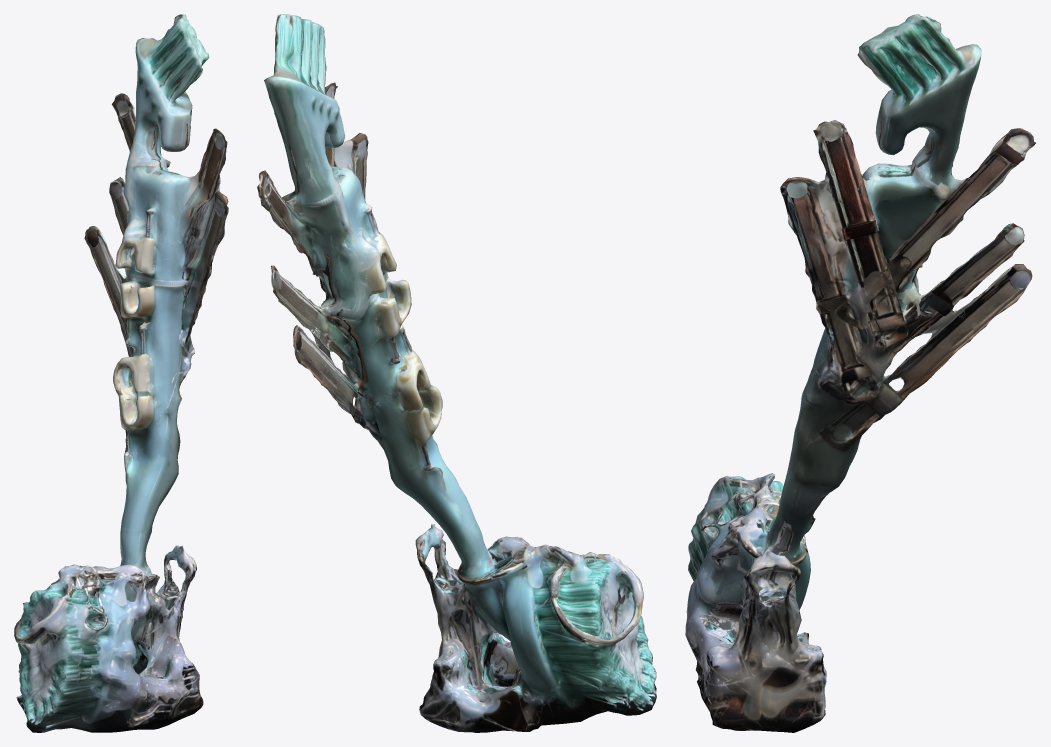
3 renders of one model, left to right at view 1: azimuth 30°, elevation 25°; view 2: azimuth 150°, elevation 25°; view 3: azimuth 270°, elevation 25°, orthographic. The views are drawn at different scales.
Visible parts, largest first — view 1: P1; view 2: P1; view 3: P1.
Boxes of the visible parts, x1,y1,x2,y2 form: P1: [14, 14, 228, 732]; P1: [257, 14, 656, 732]; P1: [685, 14, 1035, 732].
Bounding box in the file's own units: 0.4399 × 1.09 × 0.4512.
Materials: 1 (1 with a texture image).
